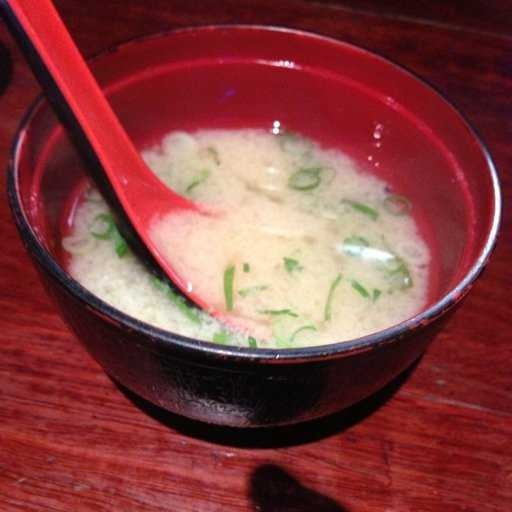soup: (50, 70, 429, 349)
